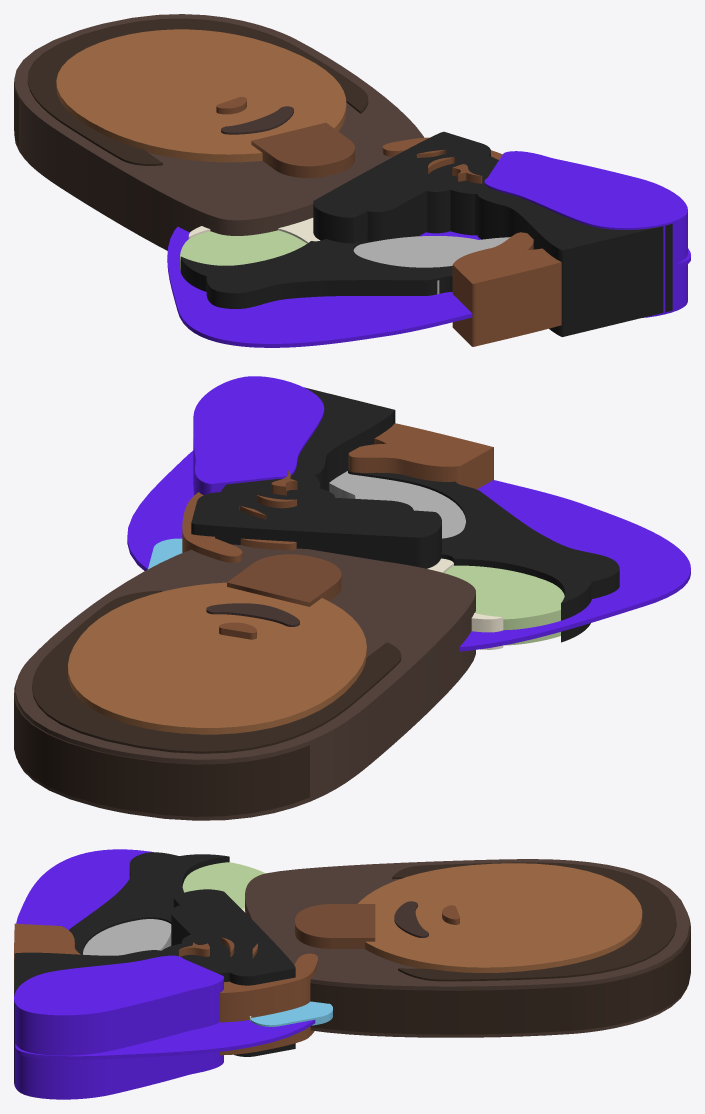
File: emoji_u1f469_1f3fe_200d_1f37c.glb
3 views of the same model, one above another, from view 1: azimuth 30°, elevation 25°; view 2: azimuth 150°, elevation 25°; view 3: azimuth 270°, elevation 25° (orthographic). The views are drawn at different scales.
Visible parts, largest first — view 1: emoji_u1f469_1f3fe_200d_1f37c; view 2: emoji_u1f469_1f3fe_200d_1f37c; view 3: emoji_u1f469_1f3fe_200d_1f37c.
Boxes of the visible parts, left/top/right/bottom form: emoji_u1f469_1f3fe_200d_1f37c: left=14, top=14, right=690, bottom=347; emoji_u1f469_1f3fe_200d_1f37c: left=14, top=376, right=690, bottom=820; emoji_u1f469_1f3fe_200d_1f37c: left=14, top=849, right=690, bottom=1099.
Size of the model in its own units: 0.0242 by 0.0052 by 0.0335.
